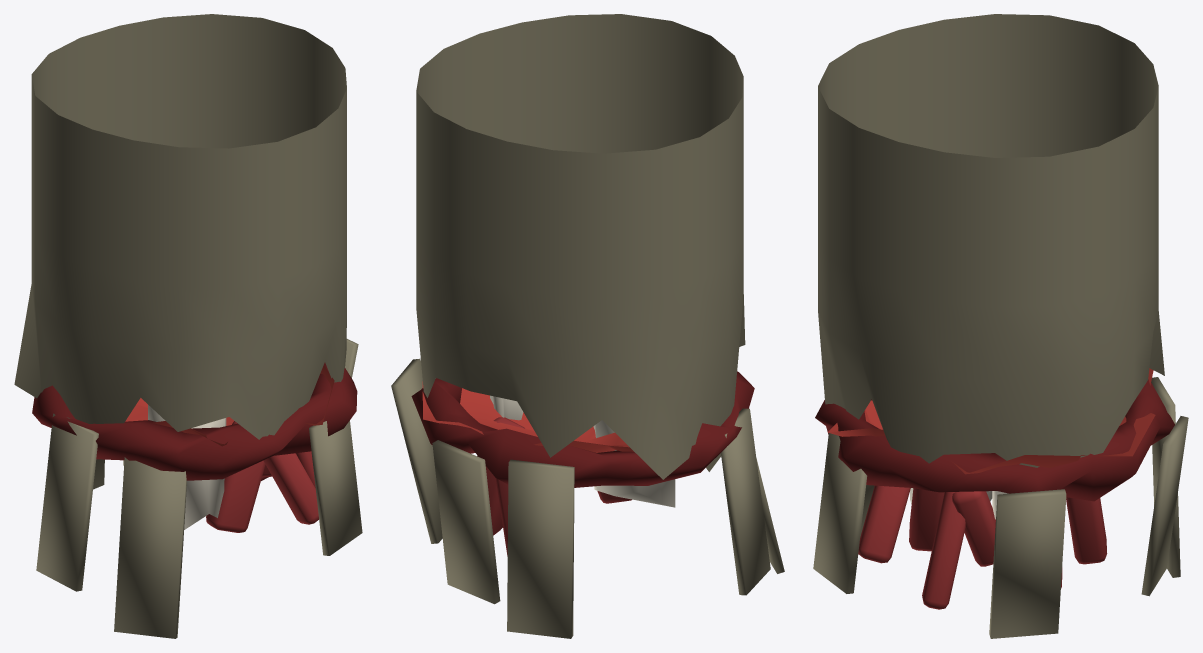
The model's file is AmputationStump.fbx.
3 views of the same model, side by side, from view 1: azimuth 30°, elevation 25°; view 2: azimuth 150°, elevation 25°; view 3: azimuth 270°, elevation 25° (orthographic). The views are drawn at different scales.
Parts seen in each view (by area): view 1: Stump_Sleeve, Stump_Rags, Stump_Clot, Stump_Shreds, Stump_Bone, Stump_Muscle; view 2: Stump_Sleeve, Stump_Rags, Stump_Clot, Stump_Muscle, Stump_Bone, Stump_Shreds; view 3: Stump_Sleeve, Stump_Rags, Stump_Clot, Stump_Shreds, Stump_Muscle.
Boxes of the visible parts, x1,y1,x2,y2 form: Stump_Sleeve: (14,14,346,459); Stump_Rags: (36,339,362,638); Stump_Clot: (32,362,357,480); Stump_Shreds: (206,421,318,532); Stump_Bone: (148,405,226,529); Stump_Muscle: (125,365,334,446); Stump_Sleeve: (416,14,745,479); Stump_Rags: (391,358,784,638); Stump_Clot: (411,371,754,487); Stump_Muscle: (422,381,633,452); Stump_Bone: (490,395,675,507); Stump_Shreds: (477,417,631,556); Stump_Sleeve: (818,14,1164,467); Stump_Rags: (813,377,1188,638); Stump_Clot: (815,379,1174,501); Stump_Shreds: (858,485,1107,609); Stump_Muscle: (827,368,1155,474).
Bounding box in the file's own units: 0.1453 × 0.2064 × 0.1366.
